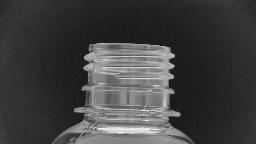No Cap: (71, 37, 185, 121)
